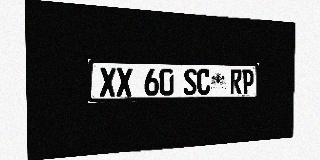0: (159, 68, 174, 95)
6: (144, 68, 159, 96)
C: (197, 69, 210, 95)
P: (242, 69, 254, 94)
R: (230, 69, 242, 94)
S: (183, 68, 197, 95)
X: (99, 67, 116, 97), (116, 68, 132, 96)
